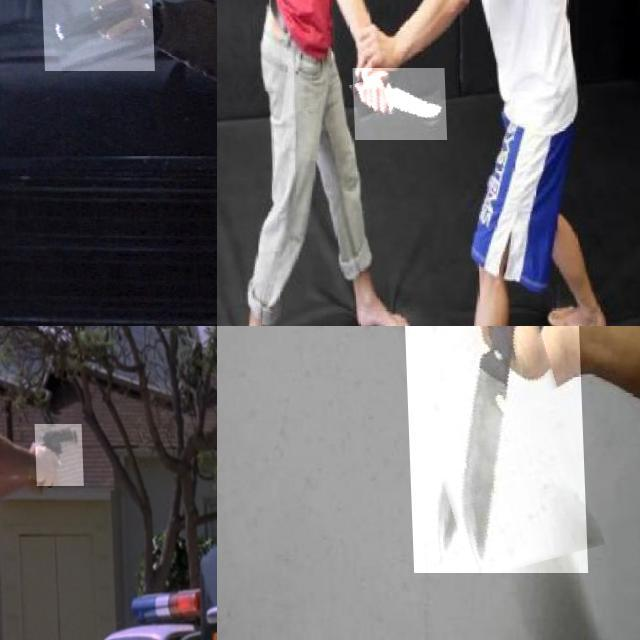-: (401, 326, 584, 573), (350, 68, 444, 140)
gun-knife-thesis - v11 Yolov5 augmented: (39, 0, 152, 70), (34, 424, 82, 486)
